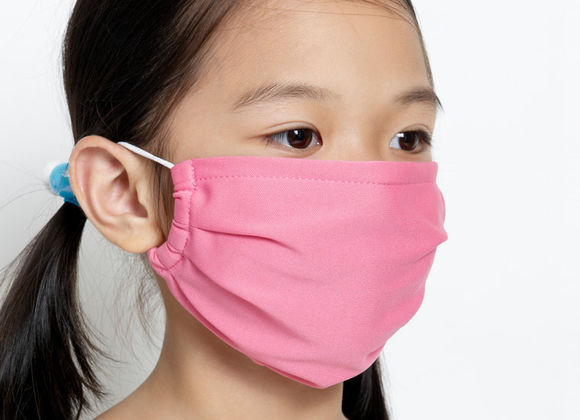face_mask: (157, 1, 448, 375)
